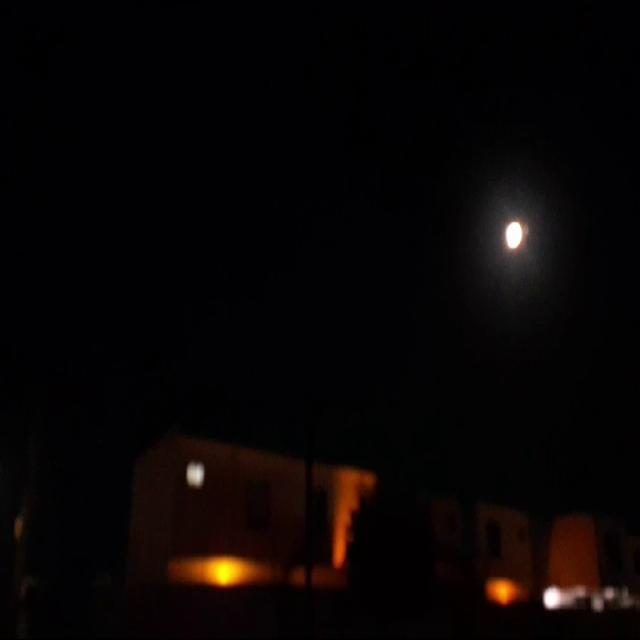moon: (506, 201, 530, 235)
